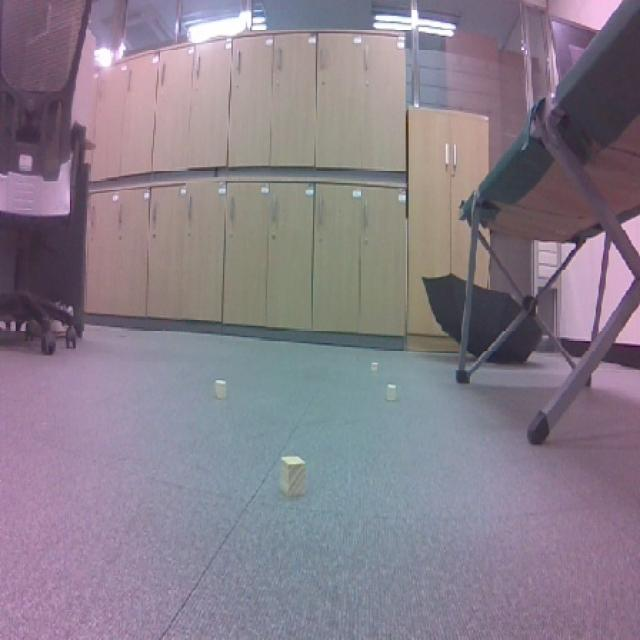obstacle: (274, 446, 314, 504)
